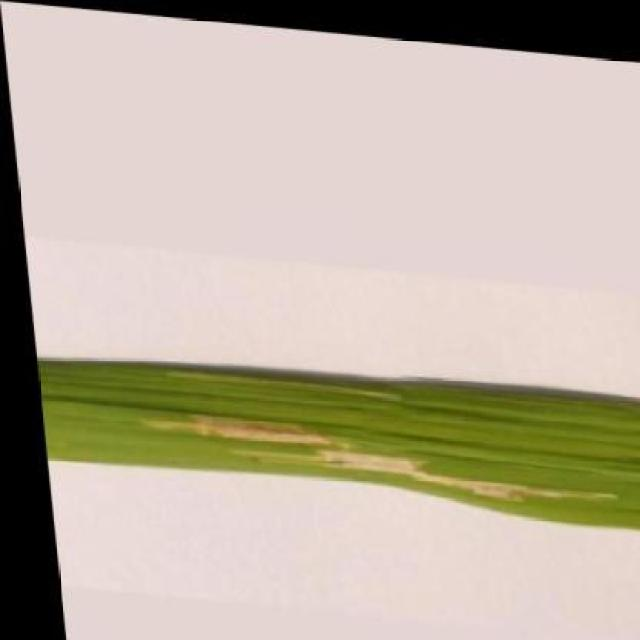Brown_Spot: (26, 335, 640, 523)
